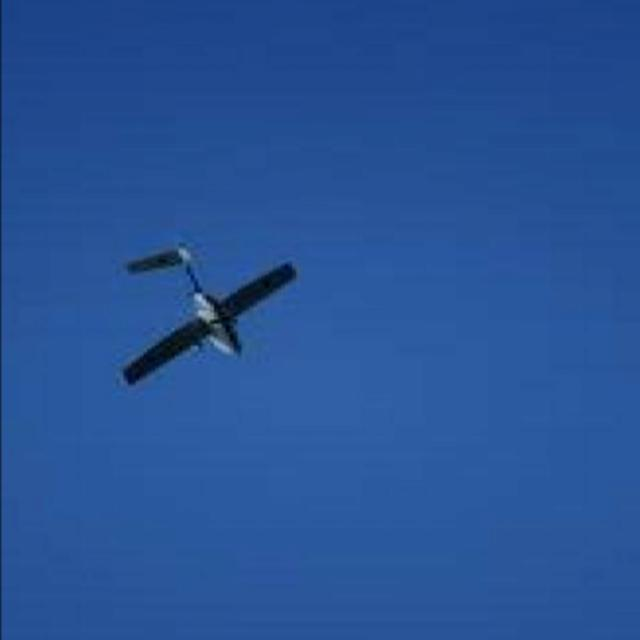plane: (112, 242, 298, 391)
